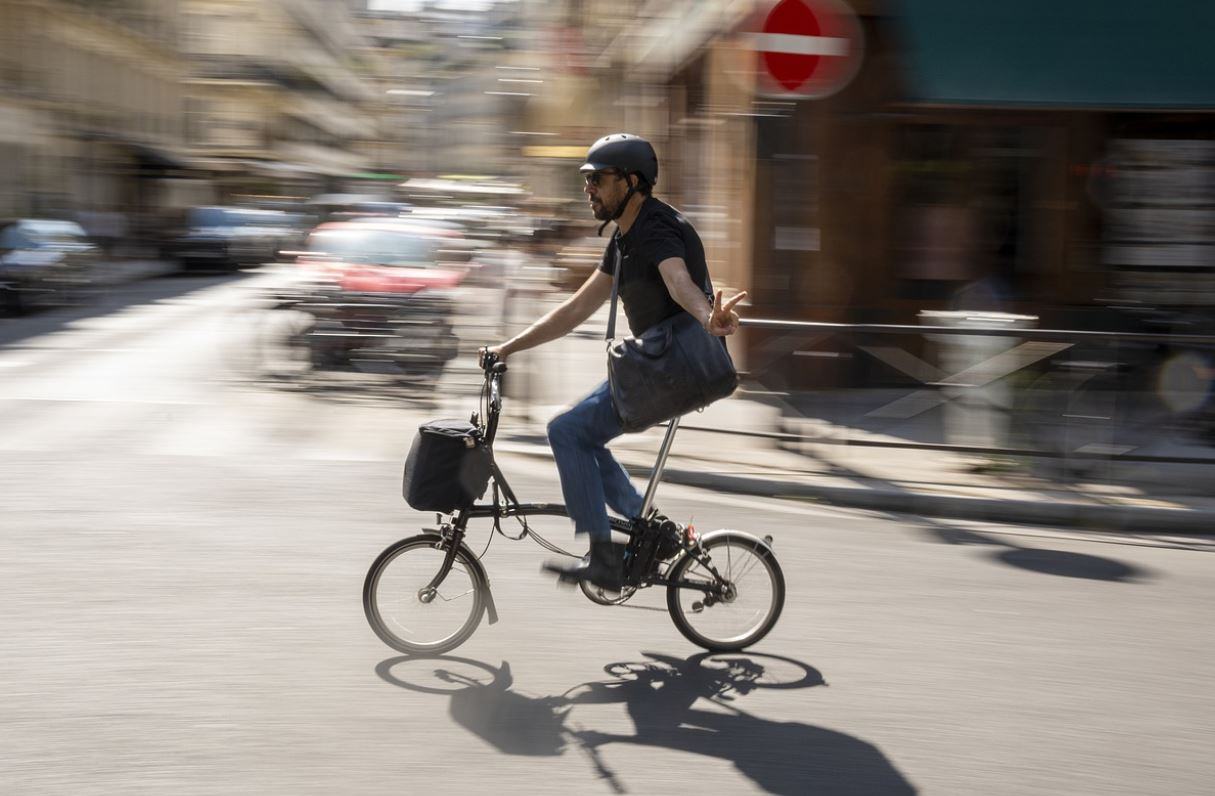commuter: (360, 133, 791, 671)
